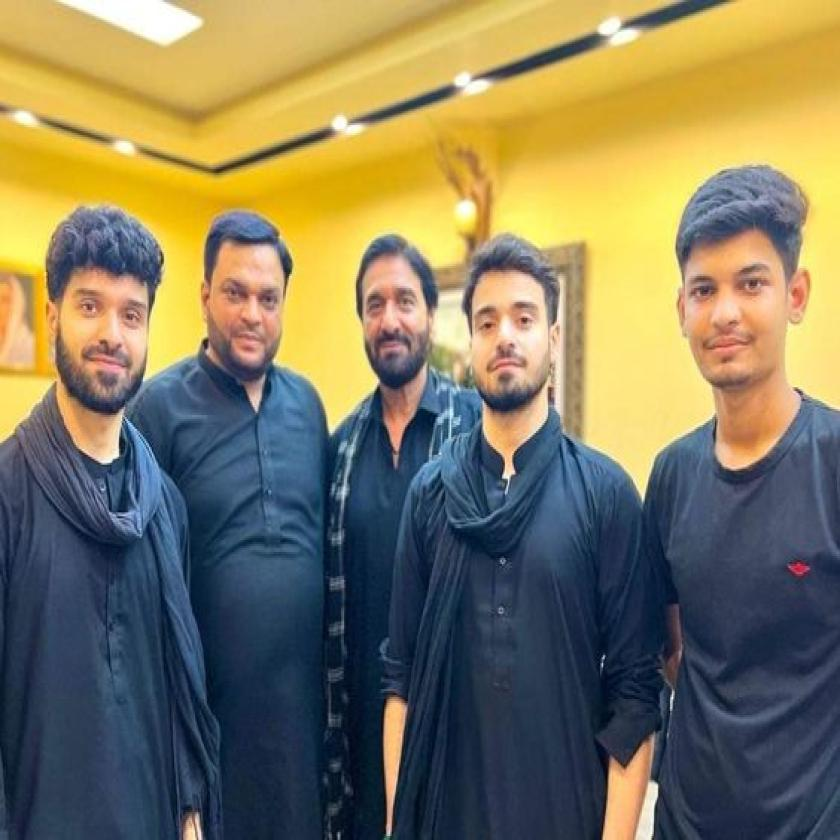Sin_casco: (674, 159, 810, 417), (44, 201, 162, 425), (460, 226, 562, 433), (194, 207, 295, 408), (354, 230, 436, 402)
